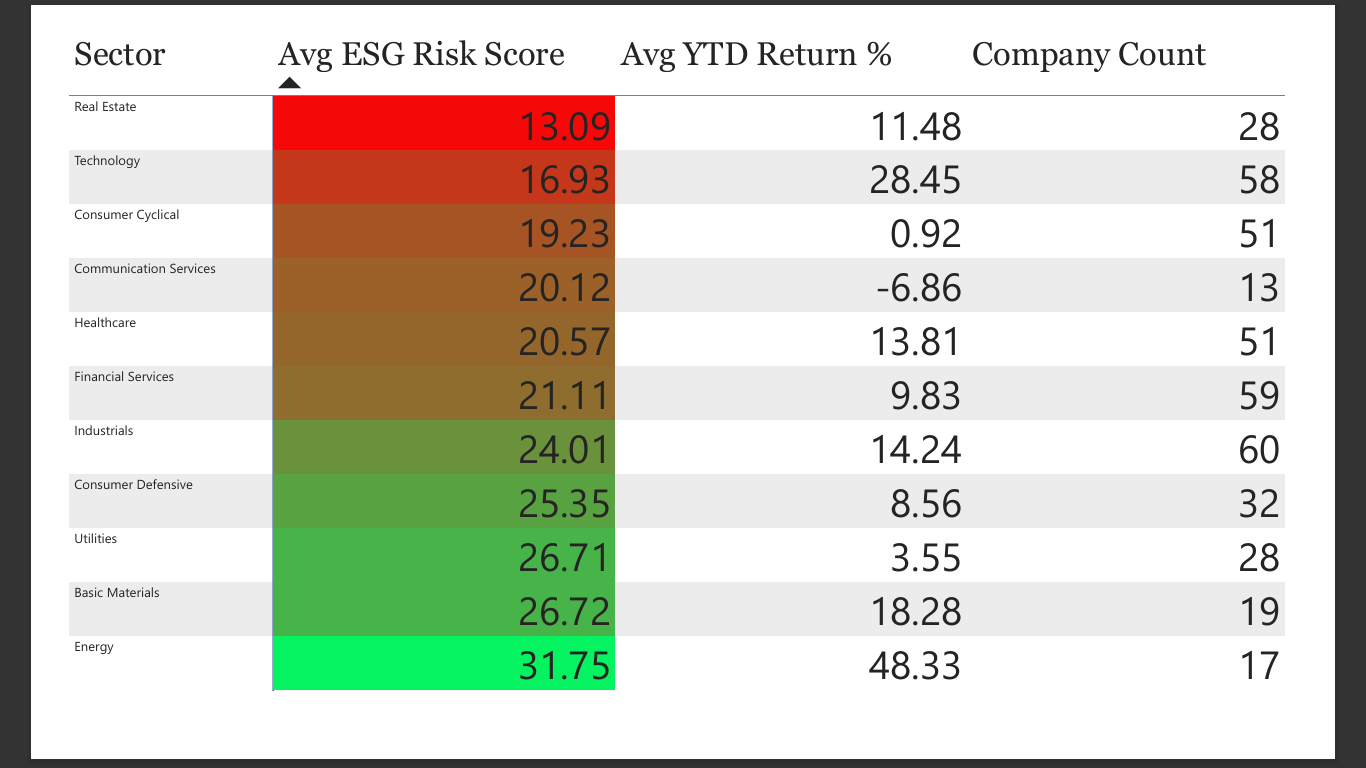

The page's visual inventory and layout, read from the dashboard file:
{"tool":"powerbi","page":{"name":"Sector Risk Heatmap","canvas":[1280,720],"ordinal":0},"visuals":[{"type":"pivotTable","fields":{"Rows":["esg_returns_joined.Sector"],"Values":["esg_returns_joined.Avg ESG Risk Score","esg_returns_joined.Avg YTD Return %","esg_returns_joined.Company Count"]},"box":[10,0,1270,720],"z":0}]}

Visuals, with their boxes in screenshot pixels (x1, y1, x2, y2), scaled from the page's 1280x720 canvas onto the 1366x768 screenshot:
pivotTable - esg_returns_joined.Sector x esg_returns_joined.Avg ESG Risk Score: <bbox>11, 0, 1365, 767</bbox>
